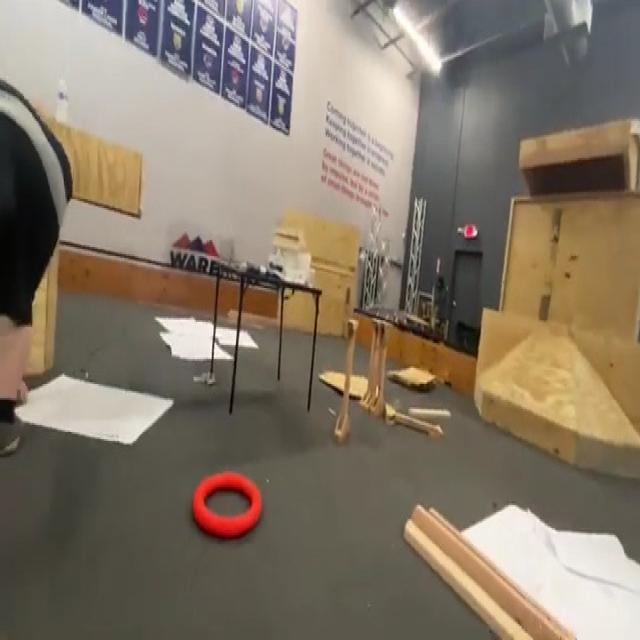note: (191, 472, 262, 538)
